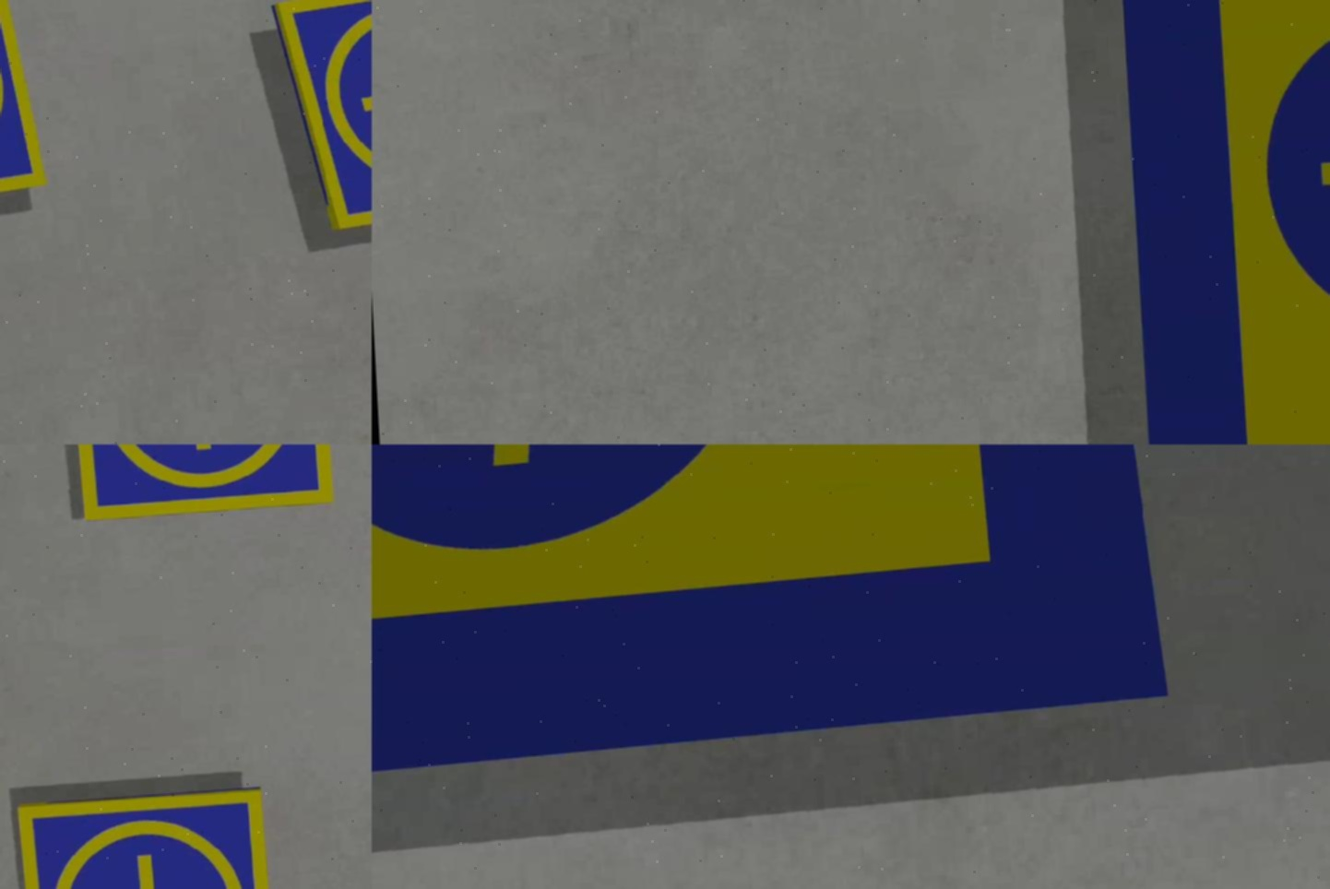large_base: (373, 445, 1176, 775), (1111, 1, 1330, 445)
small_base: (17, 784, 271, 889), (271, 1, 373, 234), (64, 445, 338, 520)
